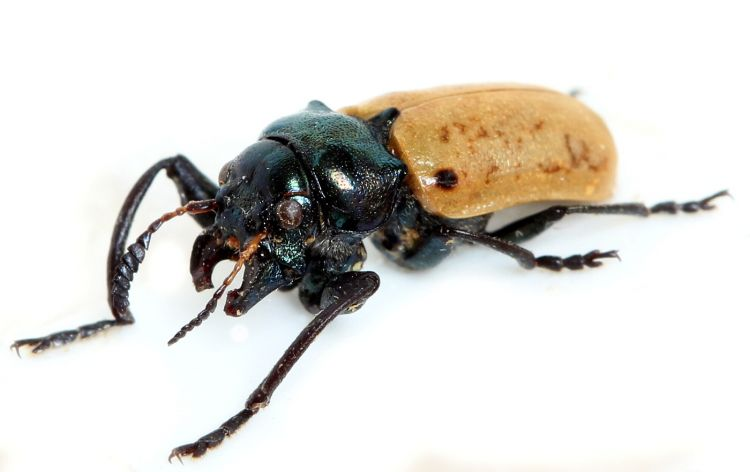Labidostomis_propinqua: (7, 81, 750, 461)
